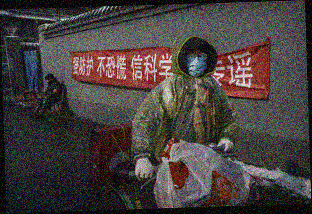with_mask: (185, 49, 209, 78)
